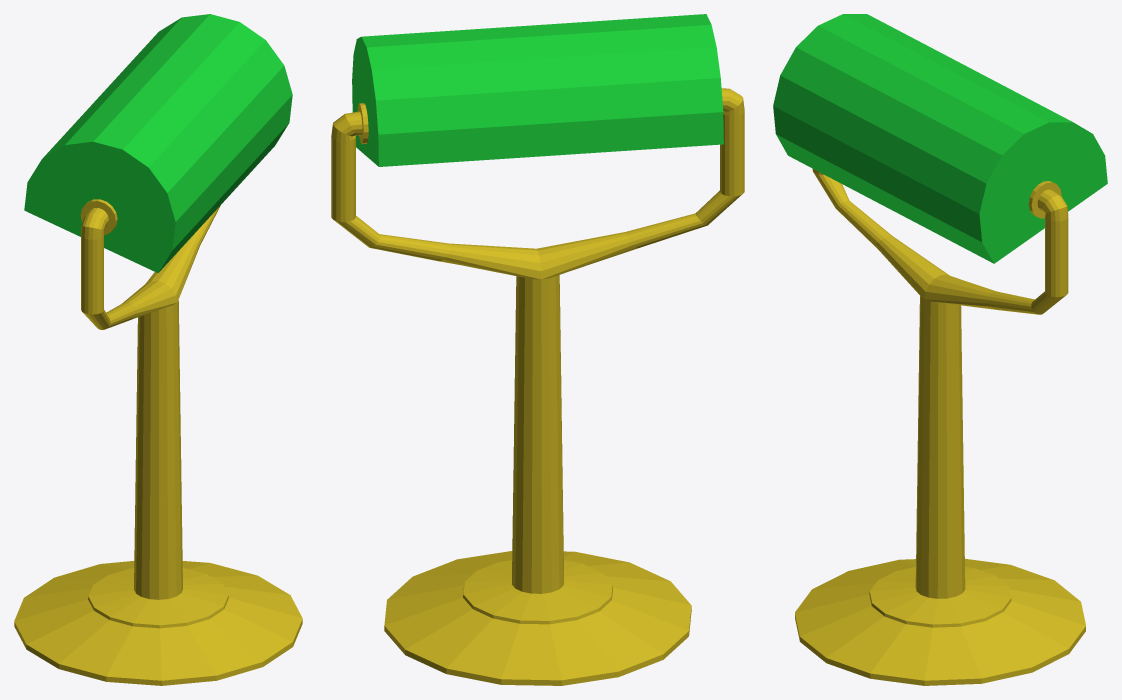
File: DeskLamp.fbx
The picture shows the model from 3 angles, left to right: view 1: azimuth 30°, elevation 25°; view 2: azimuth 150°, elevation 25°; view 3: azimuth 270°, elevation 25°; orthographic projection. The views are drawn at different scales.
Visible parts, largest first — view 1: DeskLamp; view 2: DeskLamp; view 3: DeskLamp.
Boxes of the visible parts, x1,y1,x2,y2 form: DeskLamp: [14, 14, 302, 685]; DeskLamp: [331, 14, 744, 685]; DeskLamp: [773, 14, 1107, 685].
Bounding box in the file's own units: 0.2455 × 0.4175 × 0.2285.
